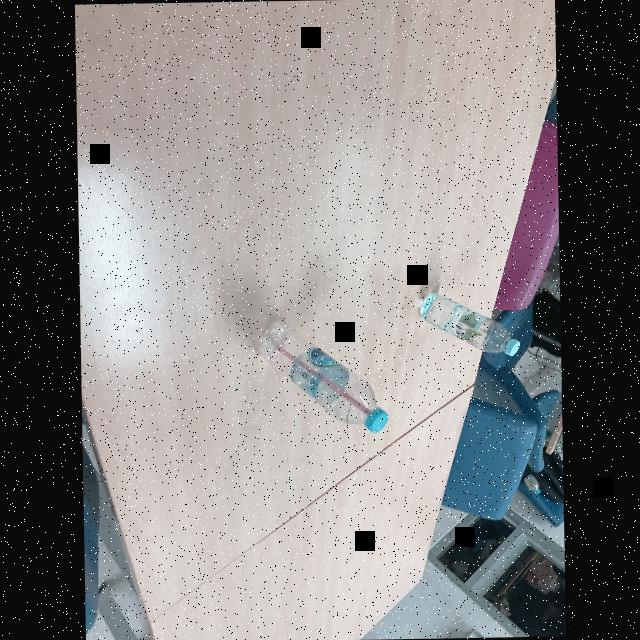plastic_bottle: (256, 317, 390, 435), (415, 289, 521, 358)
